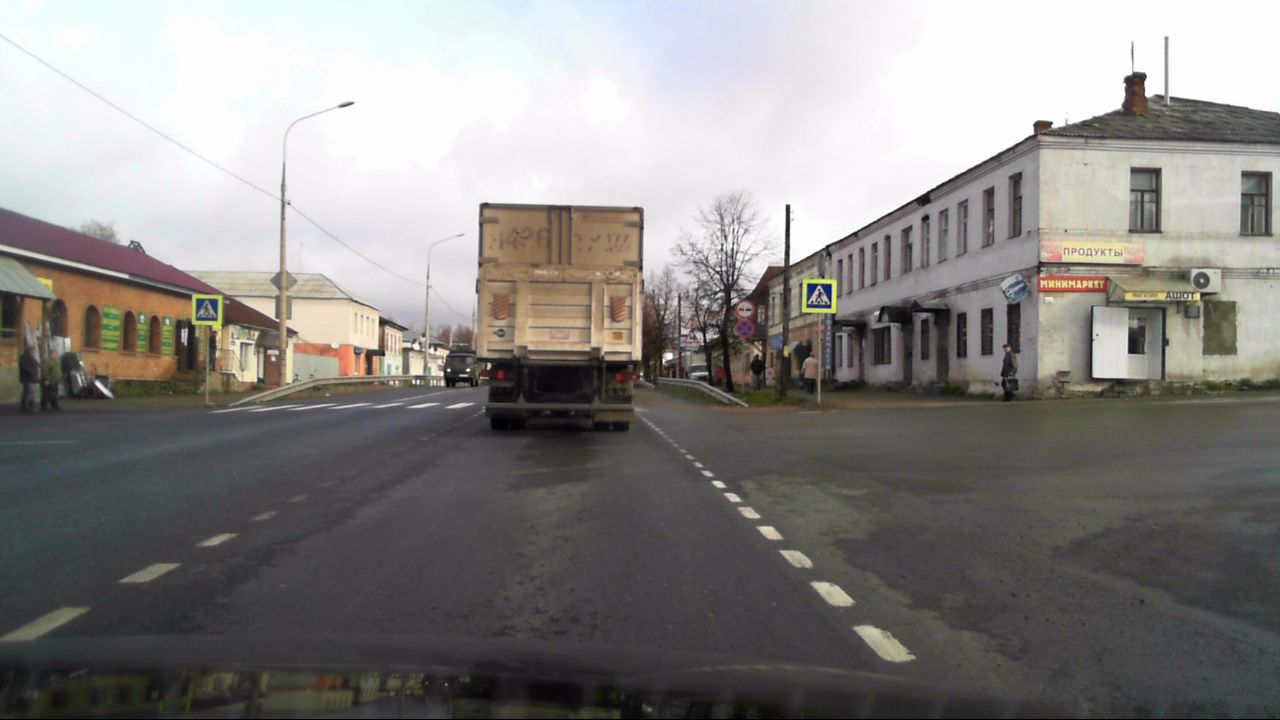No Parking: (736, 320, 753, 338)
